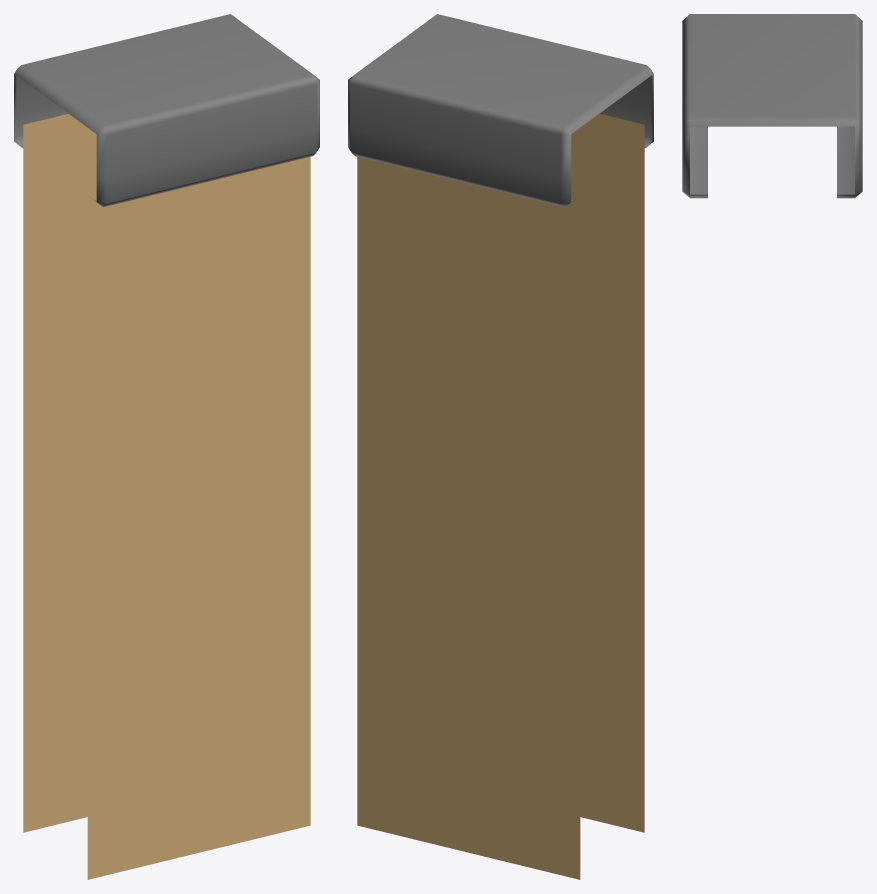
The model's file is SM_WallA_2x6_LOD1.fbx.
3 views of the same model, side by side, from view 1: azimuth 30°, elevation 25°; view 2: azimuth 150°, elevation 25°; view 3: azimuth 270°, elevation 25° (orthographic).
Visible parts, largest first — view 1: SM_WallA_2x6_LOD1; view 2: SM_WallA_2x6_LOD1; view 3: SM_WallA_2x6_LOD1.
Boxes of the visible parts, bbox=[...] form: SM_WallA_2x6_LOD1: bbox=[14, 14, 319, 879]; SM_WallA_2x6_LOD1: bbox=[348, 14, 653, 879]; SM_WallA_2x6_LOD1: bbox=[682, 14, 862, 198].
Bounding box in the file's own units: 2 × 6.5 × 1.4.
